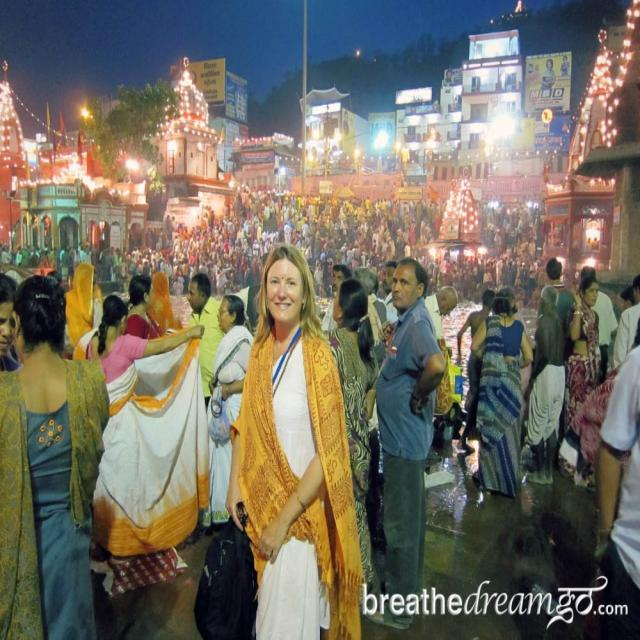body: (0, 174, 639, 373), (189, 237, 367, 639), (372, 372, 639, 639), (0, 265, 112, 639), (70, 292, 206, 566), (361, 254, 448, 632), (322, 277, 379, 606), (460, 288, 536, 500), (198, 291, 256, 530), (522, 284, 567, 485), (563, 272, 601, 493), (456, 287, 496, 455), (572, 264, 620, 386), (186, 271, 227, 407), (63, 261, 104, 349), (121, 272, 163, 340), (423, 284, 460, 360), (544, 256, 575, 338), (146, 271, 184, 336)
